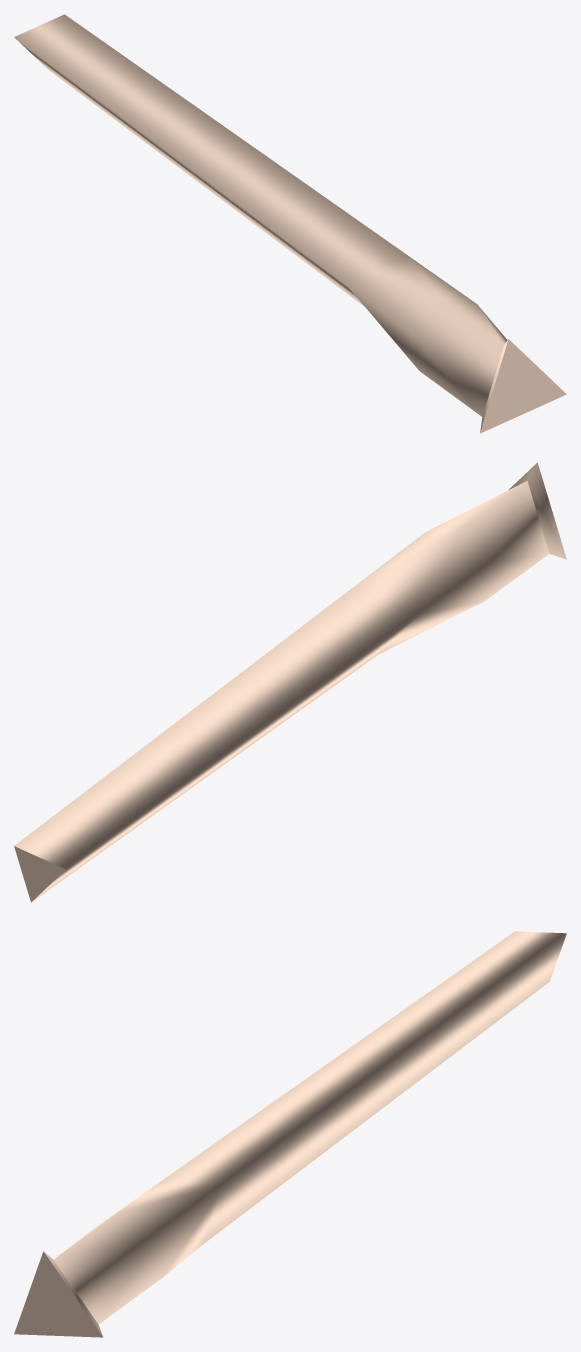
File: Goupille roue_Roue d arret Quarts.obj
3 views of the same model, one above another, from view 1: azimuth 30°, elevation 25°; view 2: azimuth 150°, elevation 25°; view 3: azimuth 330°, elevation 25° (orthographic). The views are drawn at different scales.
Visible parts, largest first — view 1: Face_1, Face_3, Face_5; view 2: Face_1, Face_3, Face_4, Face_2; view 3: Face_1, Face_3, Face_5.
Part boxes in pixels (x1=…): Face_1: x1=14, y1=14, x2=476, y2=370; Face_3: x1=412, y1=300, x2=507, y2=416; Face_5: x1=480, y1=339, x2=566, y2=433; Face_1: x1=14, y1=528, x2=492, y2=901; Face_3: x1=426, y1=481, x2=549, y2=600; Face_4: x1=509, y1=462, x2=566, y2=559; Face_2: x1=14, y1=846, x2=65, y2=902; Face_1: x1=94, y1=931, x2=566, y2=1276; Face_3: x1=54, y1=1212, x2=162, y2=1324; Face_5: x1=14, y1=1251, x2=102, y2=1337.
Size of the model in its own units: 0.00136 by 0.00137 by 0.0129.
